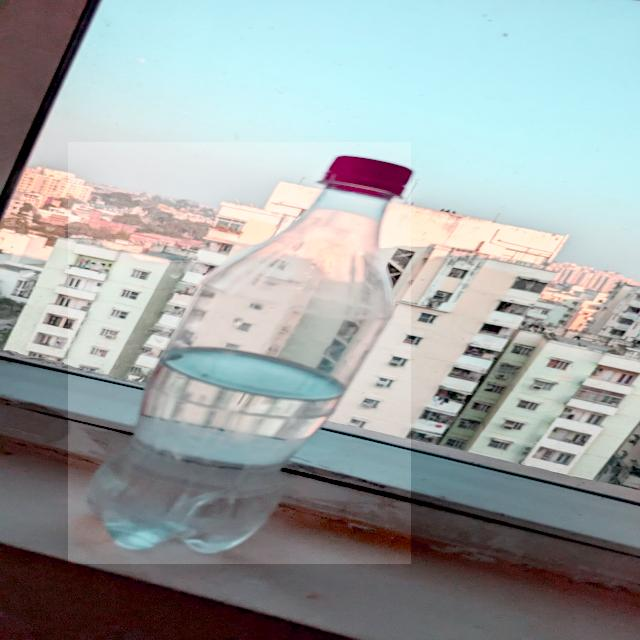half-bottle: (68, 142, 411, 564)
